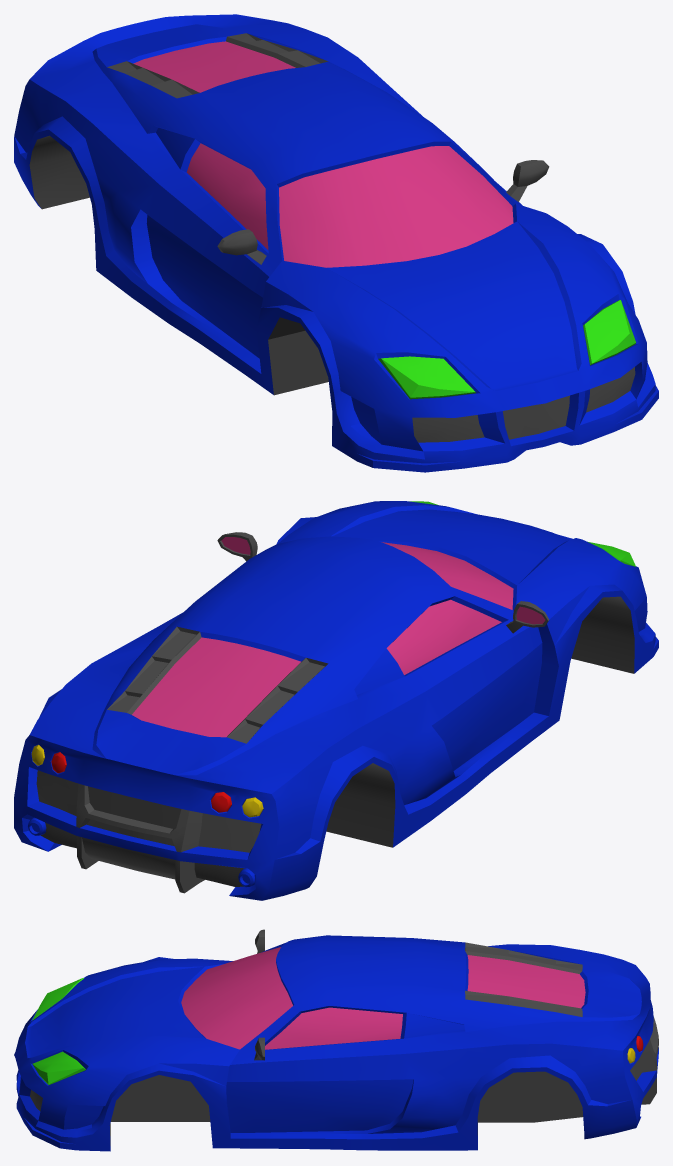
3 views of the same model, one above another, from view 1: azimuth 30°, elevation 25°; view 2: azimuth 150°, elevation 25°; view 3: azimuth 270°, elevation 25° (orthographic). The views are drawn at different scales.
Visible parts, largest first — view 1: C49; view 2: C49; view 3: C49.
Part boxes in pixels (<box>): C49: <box>14,14,658,472</box>; C49: <box>14,501,658,900</box>; C49: <box>14,929,658,1151</box>.
Size of the model in its own units: 88.37 by 46.48 by 194.
